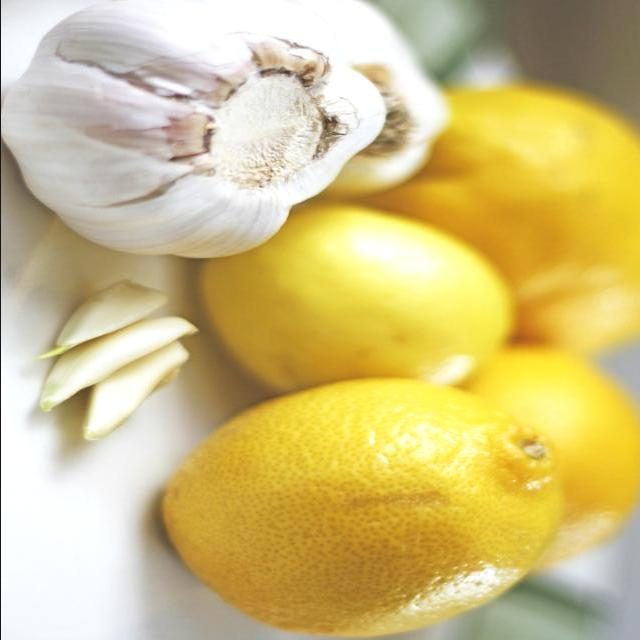garlic: (1, 3, 371, 265), (27, 274, 207, 434)
